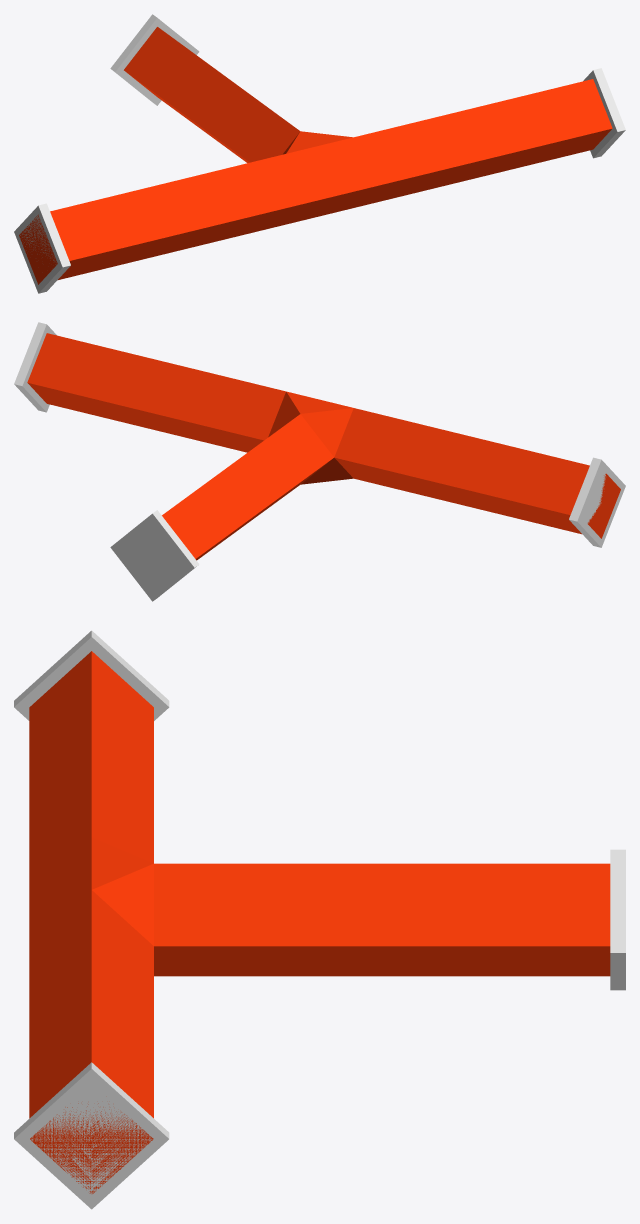
File: Small_Pipe_ThreePoint.fbx
3 renders of one model, top to bottom at view 1: azimuth 30°, elevation 25°; view 2: azimuth 150°, elevation 25°; view 3: azimuth 270°, elevation 25°, orthographic. The views are drawn at different scales.
Parts seen in each view (by area): view 1: Cylinder.001; view 2: Cylinder.001; view 3: Cylinder.001.
Part boxes in pixels (<box>): Cylinder.001: <box>14,14,625,293</box>; Cylinder.001: <box>14,322,625,601</box>; Cylinder.001: <box>14,630,625,1209</box>.
Size of the model in its own units: 99.98 by 14.98 by 58.98.
